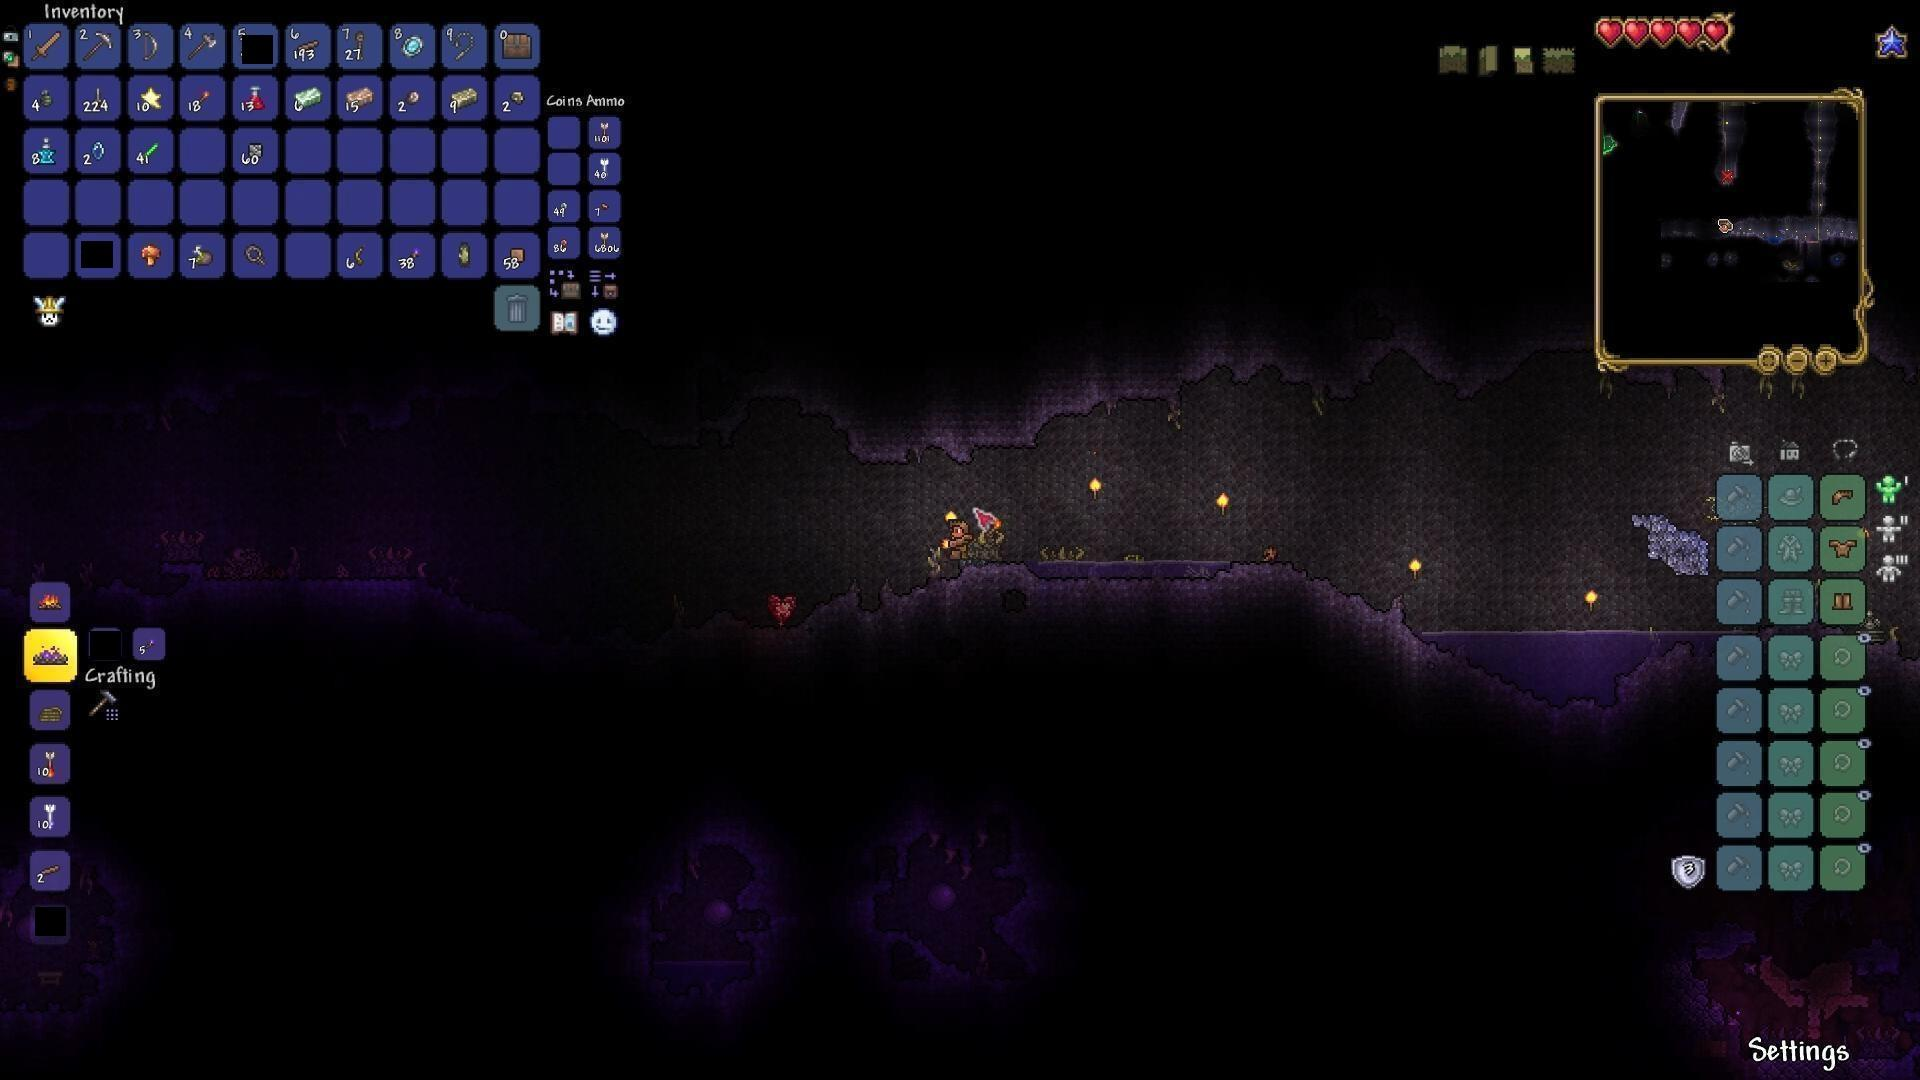breastplate: (1829, 535, 1859, 558)
helmet: (1825, 480, 1859, 512)
legs: (1830, 585, 1855, 615)
